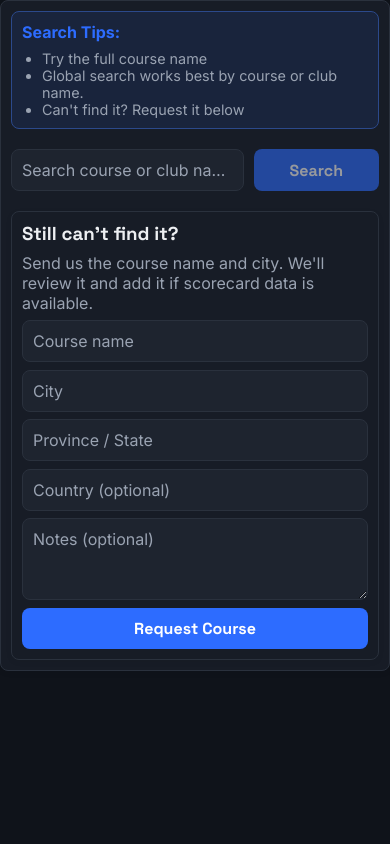
Test case: /courses/search page fallback flow › prefills request course name from the search query
Type "Cedar Ridge" into the field with placeholder "Search course or club name".
click(127, 170); type("Cedar Ridge")  # box top-left (11, 149), bottom-right (244, 191)
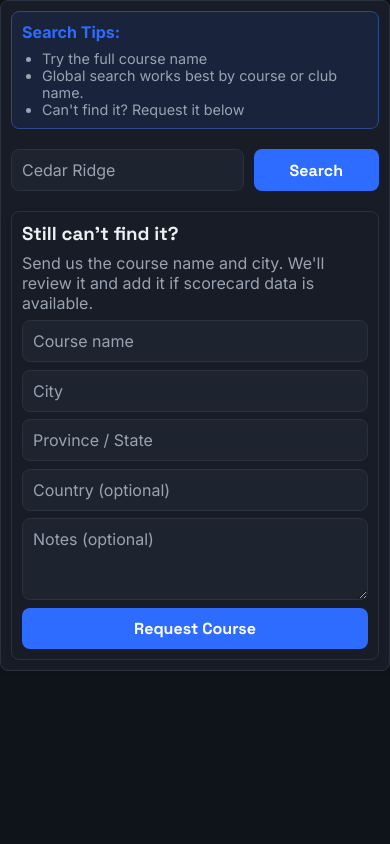
Click the button "Search".
click(316, 170)  # box top-left (254, 149), bottom-right (379, 191)
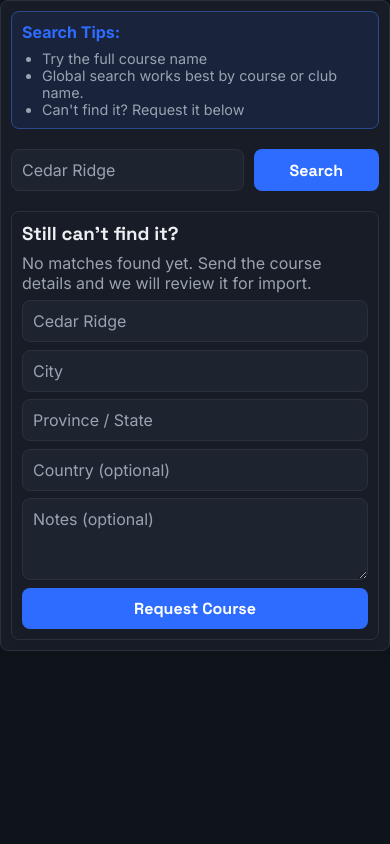
Expected: the heading "Still can't find it?" is shown, top-left (22, 222), bottom-right (179, 245)
Now the field with placeholder "Course name" below "Still can't find it?" holds "Cedar Ridge", box top-left (22, 300), bottom-right (368, 342)
